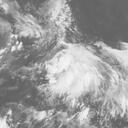cyclone: (44, 43, 107, 103)
